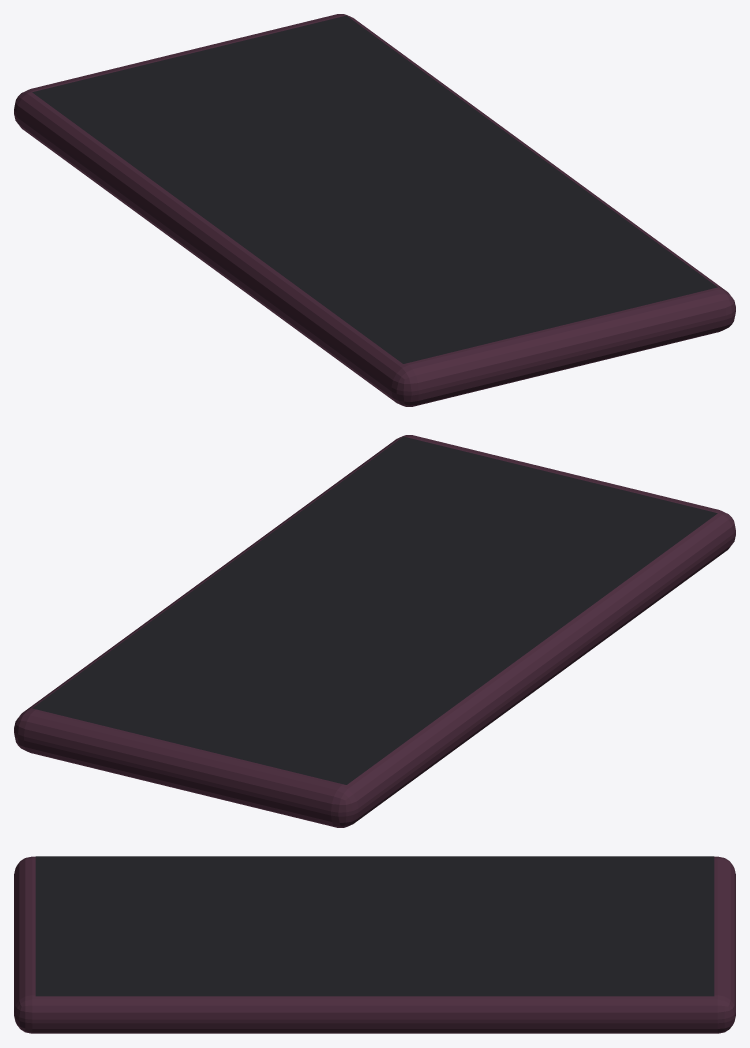
Rendered from Phone_857.glb.
3 views of the same model, one above another, from view 1: azimuth 30°, elevation 25°; view 2: azimuth 150°, elevation 25°; view 3: azimuth 270°, elevation 25° (orthographic). The views are drawn at different scales.
Parts seen in each view (by area): view 1: Phone_Screen, Phone_Body; view 2: Phone_Screen, Phone_Body; view 3: Phone_Screen, Phone_Body.
Boxes of the visible parts, box(x1,y1,x2,y2) form: Phone_Screen: box(32, 15, 717, 363); Phone_Body: box(14, 14, 735, 406); Phone_Screen: box(32, 436, 717, 784); Phone_Body: box(14, 435, 735, 827); Phone_Screen: box(35, 856, 714, 996); Phone_Body: box(14, 856, 735, 1033).
Size of the model in its own units: 0.0788 by 0.009 by 0.1577.
